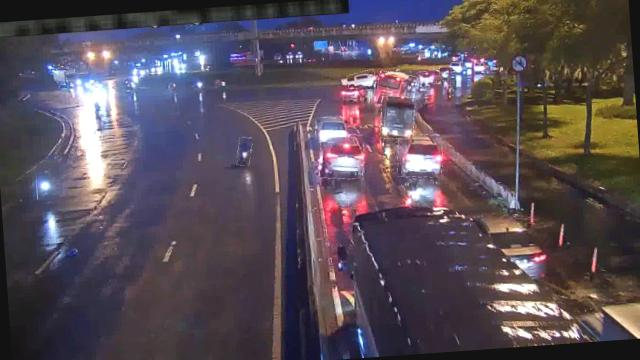Bike: (35, 165, 54, 203), (235, 136, 252, 166)
Bus: (374, 70, 418, 110)
Car: (318, 132, 366, 181), (395, 132, 444, 178), (314, 116, 348, 142), (346, 70, 376, 88), (417, 68, 441, 86)
Truck: (379, 94, 417, 140)
